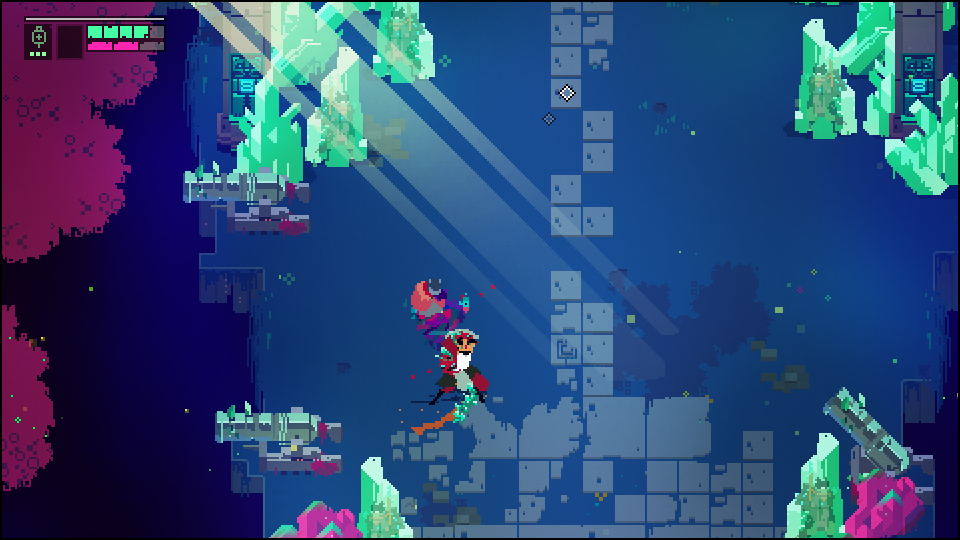hanged_man: (426, 326, 486, 436)
player: (406, 274, 448, 321)
